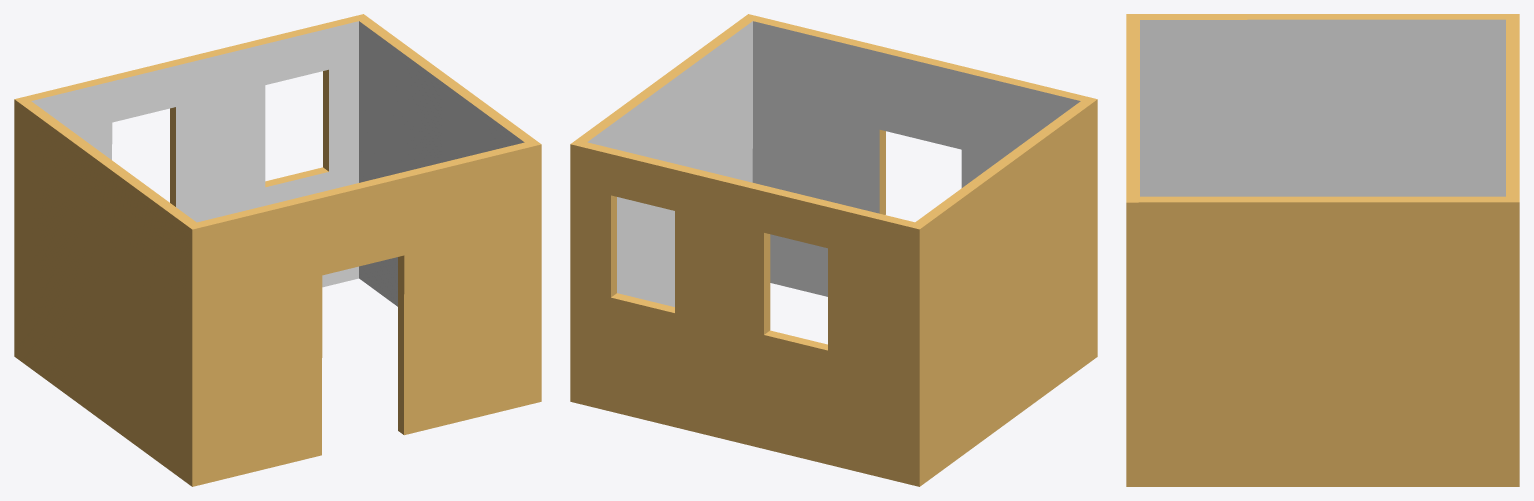
Rendered from Wall_fc444bd9.obj.
3 renders of one model, left to right at view 1: azimuth 30°, elevation 25°; view 2: azimuth 150°, elevation 25°; view 3: azimuth 270°, elevation 25°, orthographic. The views are drawn at different scales.
Parts seen in each view (by area): view 1: Wall_fc444bd9; view 2: Wall_fc444bd9; view 3: Wall_fc444bd9.
Boxes of the visible parts, box(x1,y1,x2,y2) form: Wall_fc444bd9: box(14, 14, 541, 486); Wall_fc444bd9: box(570, 14, 1097, 486); Wall_fc444bd9: box(1126, 14, 1519, 486).
Bounding box in the file's own units: 4.26 × 3 × 3.76.
